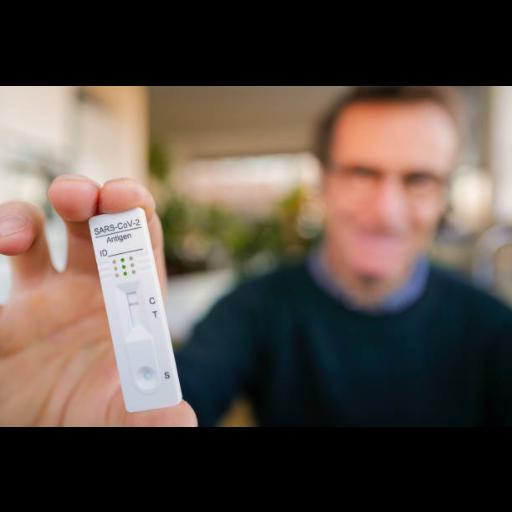Neg: (88, 207, 183, 413)
